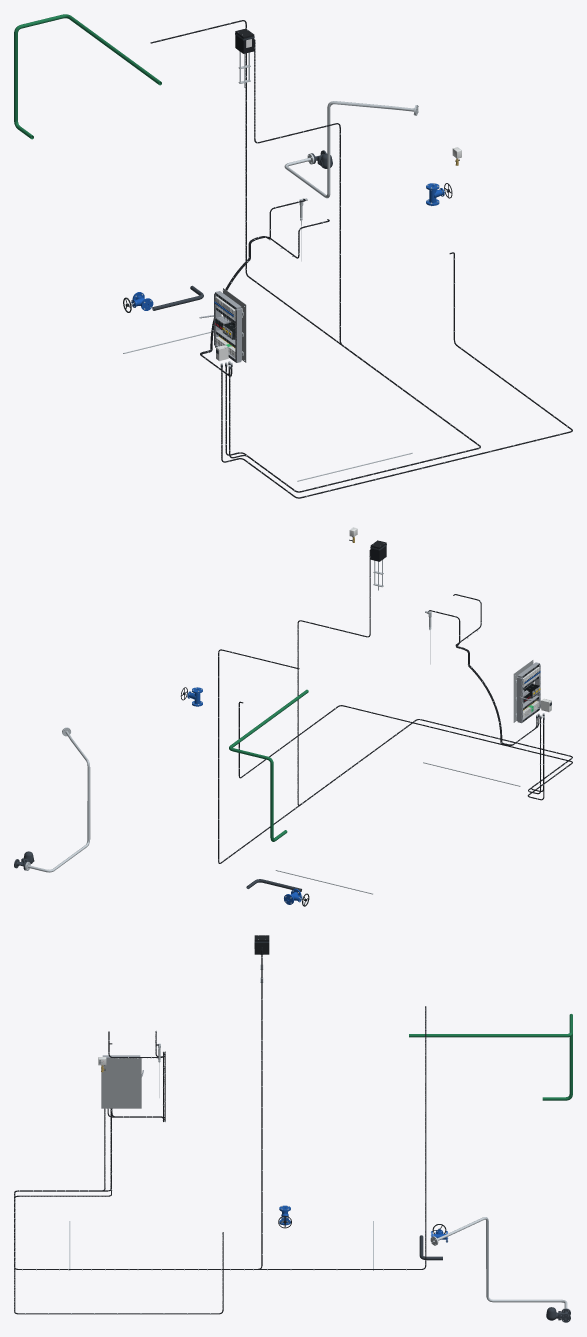
3 renders of one model, top to bottom at view 1: azimuth 30°, elevation 25°; view 2: azimuth 150°, elevation 25°; view 3: azimuth 270°, elevation 25°, orthographic. The views are drawn at different scales.
Visible parts, largest first — view 1: cabinet_interior / cabinet_interior_0.npz, gpz_drive_cable / black, mod_direct_drive_cable / black, wiring_pump_1 / black, from_economizer / green, trap_gap_to_bdv / steel; view 2: cabinet_interior / cabinet_interior_0.npz, mod_direct_drive_cable / black, gpz_drive_cable / black, wiring_pump_1 / black, from_economizer / green, trap_gap_to_bdv / steel; view 3: cabinet_interior / cabinet_interior_0.npz, mod_direct_drive_cable / black, gpz_drive_cable / black, from_economizer / green, wiring_pump_1 / black, trap_gap_to_bdv / steel.
Boxes of the visible parts, x1,y1,x2,y2 form: cabinet_interior / cabinet_interior_0.npz: (199,288,246,362); gpz_drive_cable / black: (229,39,480,492); mod_direct_drive_cable / black: (150,20,480,492); wiring_pump_1 / black: (221,252,572,498); from_economizer / green: (14,14,149,139); trap_gap_to_bdv / steel: (284,101,418,198); cabinet_interior / cabinet_interior_0.npz: (513,660,540,723); mod_direct_drive_cable / black: (218,649,572,863); gpz_drive_cable / black: (297,549,572,805); wiring_pump_1 / black: (238,701,572,800); from_economizer / green: (229,696,299,841); trap_gap_to_bdv / steel: (25,727,90,872); cabinet_interior / cabinet_interior_0.npz: (101,1055,143,1108); mod_direct_drive_cable / black: (14,1006,426,1269); gpz_drive_cable / black: (14,948,262,1269); from_economizer / green: (429,1014,572,1100); wiring_pump_1 / black: (14,1115,223,1314); trap_gap_to_bdv / steel: (430,1217,570,1315).
Bounding box in the file's own units: 4.75 × 4.12 × 6.76.
